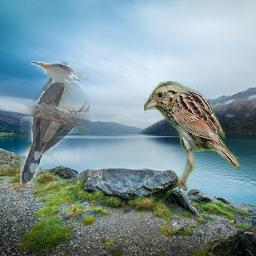Cuckoo: (20, 62, 90, 185)
Sparrow: (144, 81, 240, 191)
